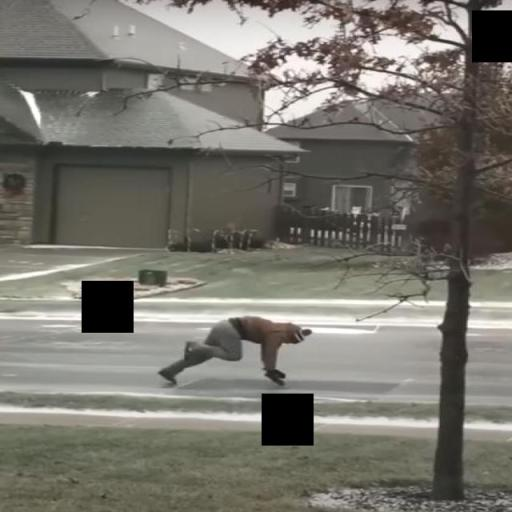Fall: (154, 313, 315, 390)
